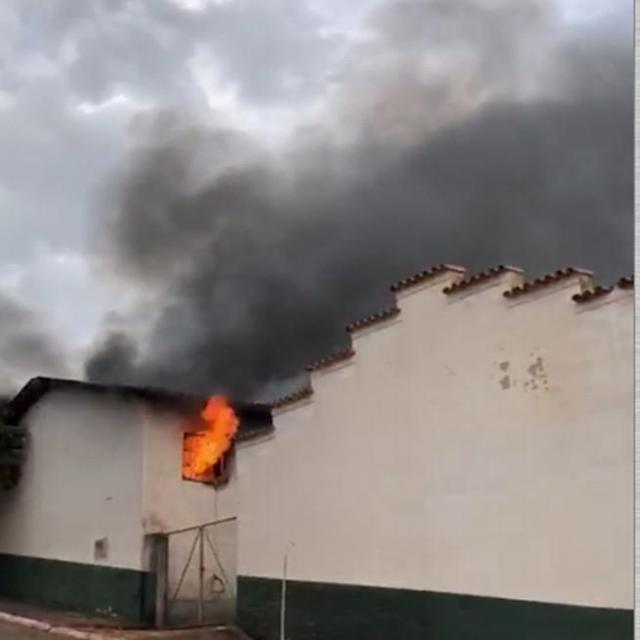Fire: (176, 382, 247, 482)
